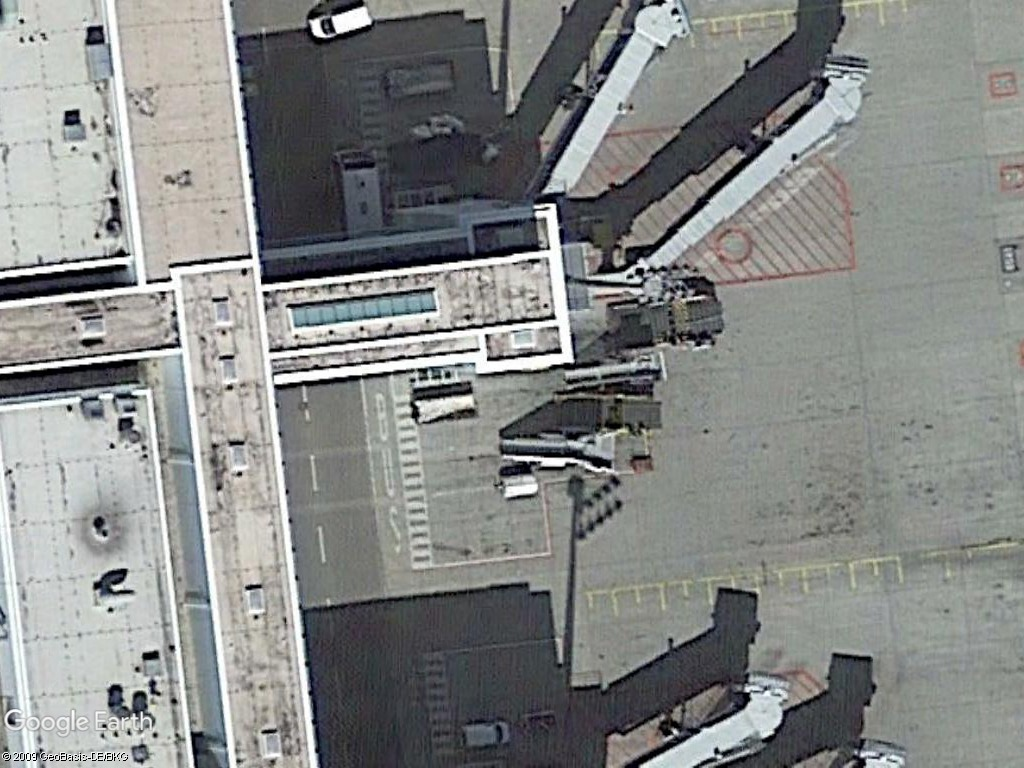stairtruck: (496, 423, 623, 477)
van: (303, 2, 375, 46)
